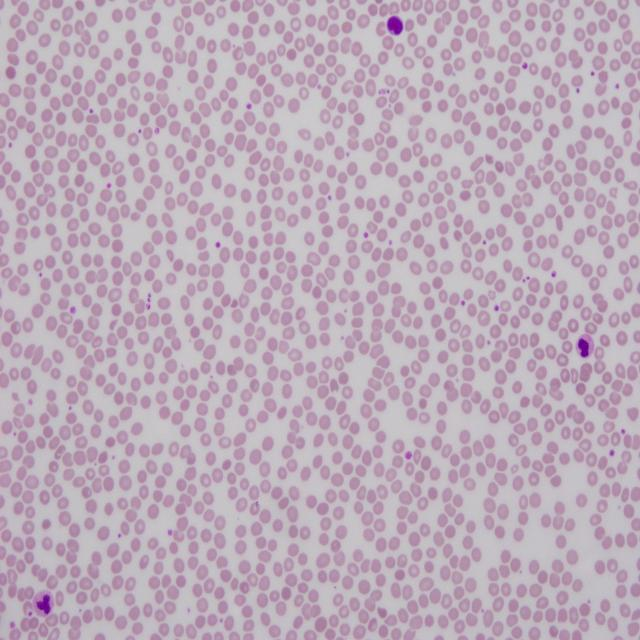cell: (32, 590, 54, 617)
